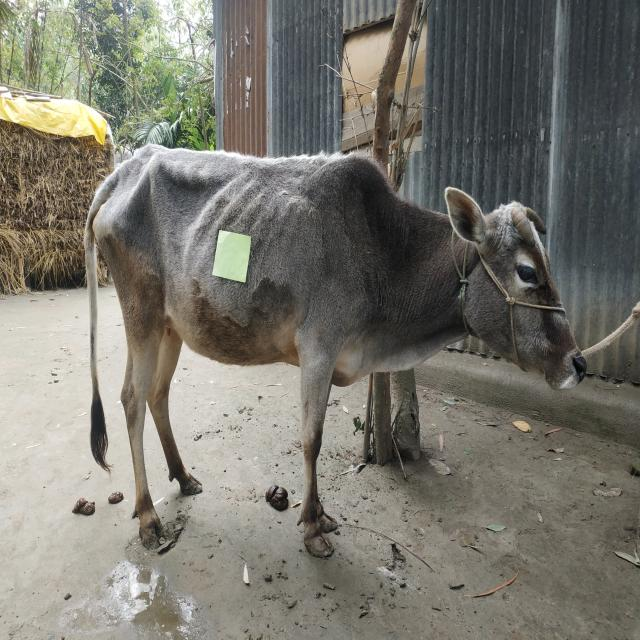badan_sapi: (132, 151, 363, 371)
sapi: (81, 144, 594, 560)
